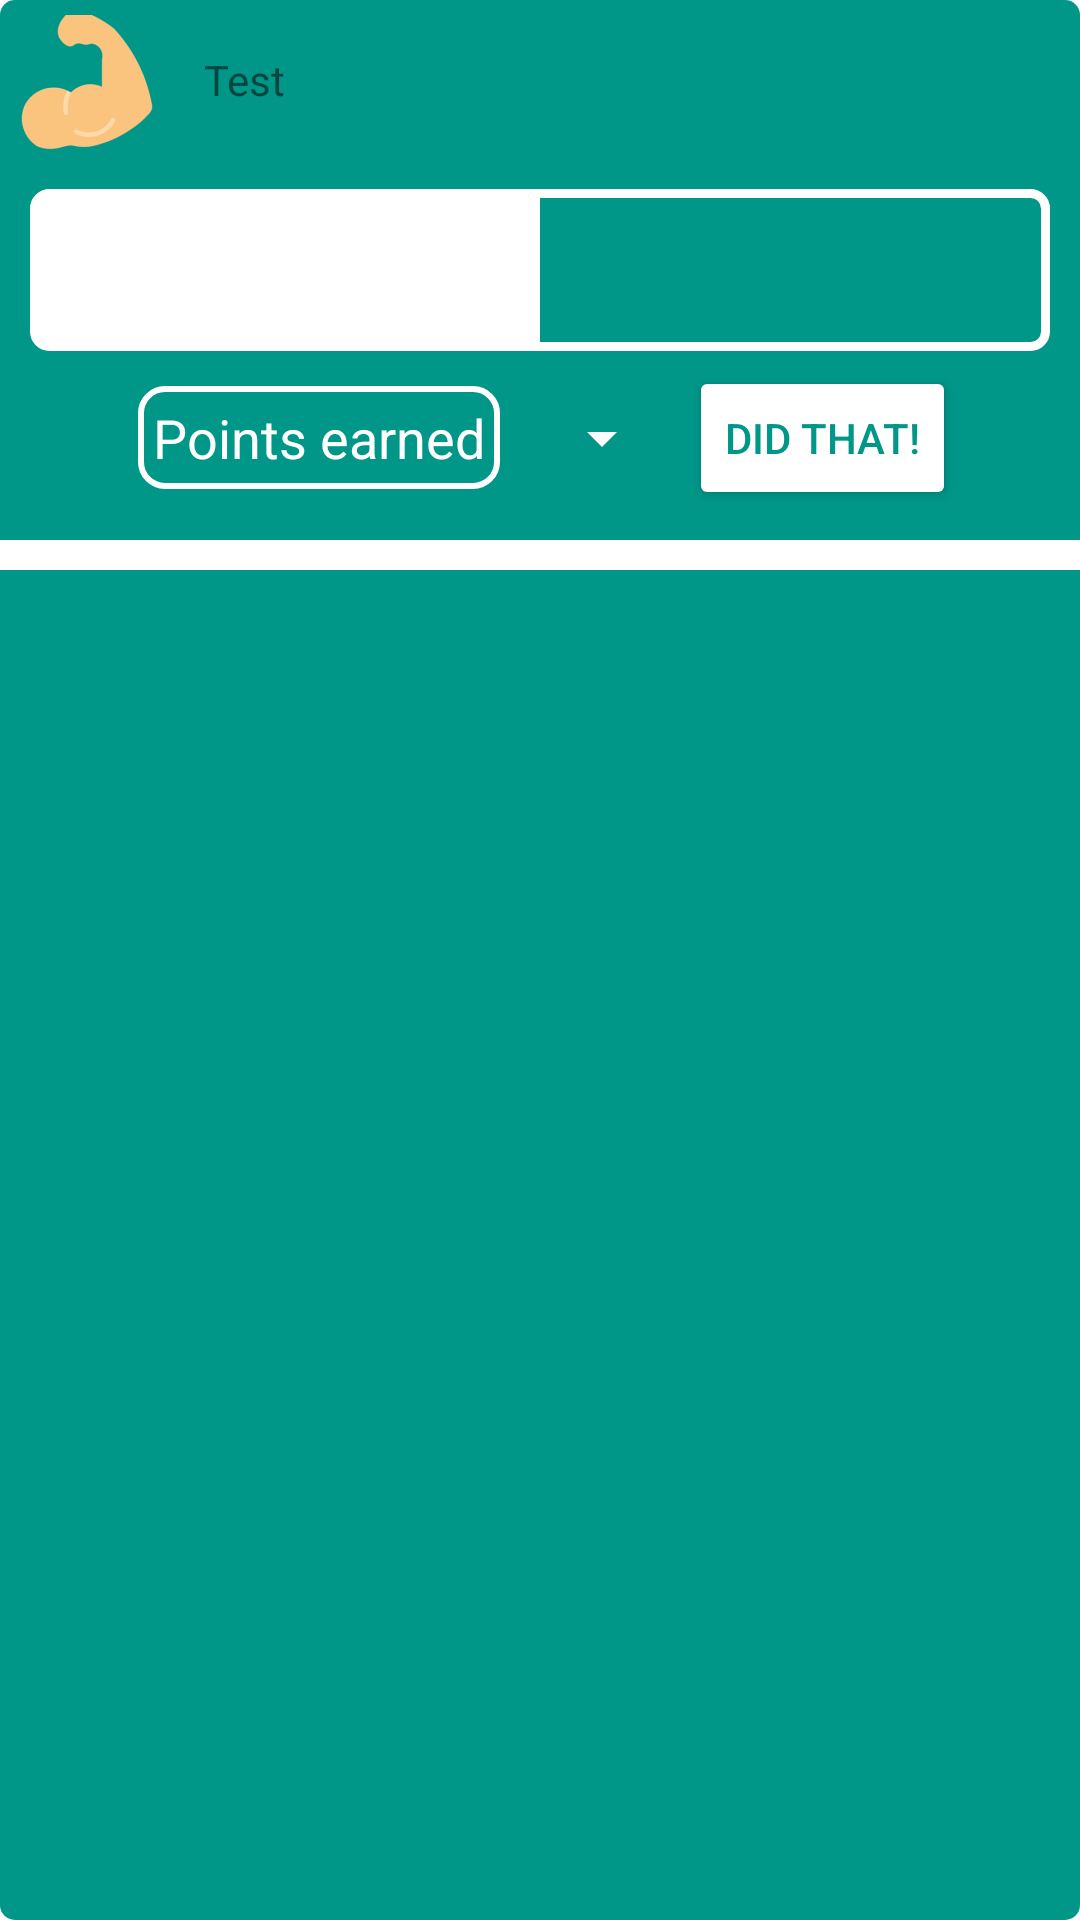

Where icons sit on this 1080w x 1920h app screen, as (x1, y1, x2, y2):
muscle: (21, 15, 153, 149)
